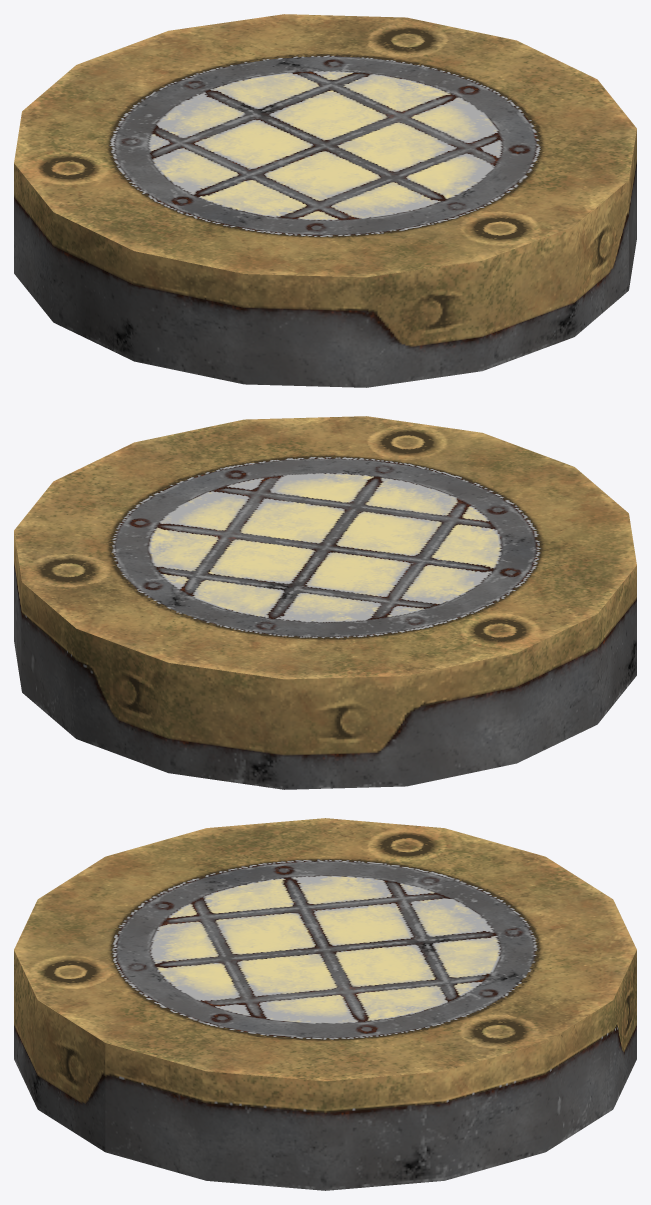
Rendered from Light_Round.fbx.
3 renders of one model, top to bottom at view 1: azimuth 30°, elevation 25°; view 2: azimuth 150°, elevation 25°; view 3: azimuth 270°, elevation 25°, orthographic.
Visible parts, largest first — view 1: Light_Round; view 2: Light_Round; view 3: Light_Round.
Part boxes in pixels (x1,y1,x2,y2): Light_Round: [14, 14, 636, 387]; Light_Round: [14, 416, 636, 789]; Light_Round: [14, 818, 636, 1190].
Size of the model in its own units: 0.2932 by 0.0568 by 0.2932.
